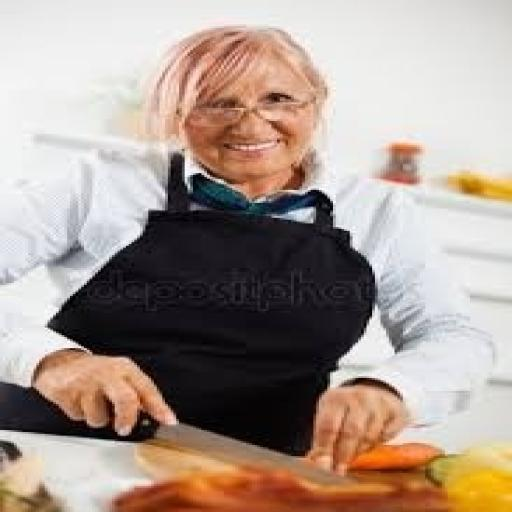eating: (0, 22, 495, 477)
